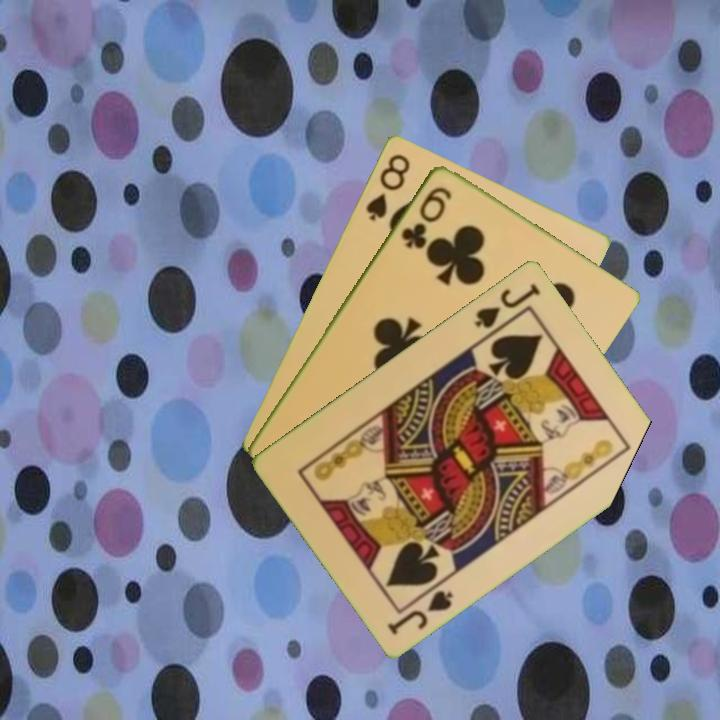6c: (397, 182, 455, 251)
8s: (362, 149, 413, 223)
Js: (471, 279, 543, 331), (384, 585, 456, 637)
